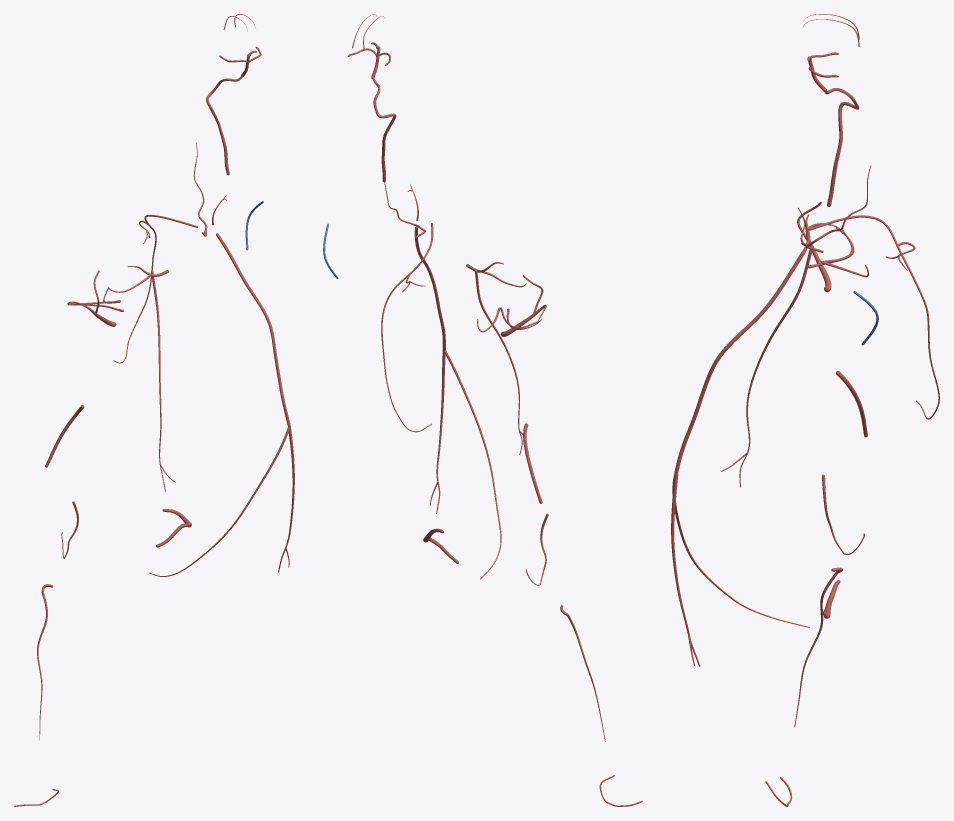
File: thorax-2.glb
3 renders of one model, left to right at view 1: azimuth 30°, elevation 25°; view 2: azimuth 150°, elevation 25°; view 3: azimuth 270°, elevation 25°, orthographic. The views are drawn at different scales.
Visible parts, largest first — view 1: FJ1937, FJ1938, FJ2284; view 2: FJ2284, FJ1969; view 3: FJ1937, FJ2284, FJ1938, FJ1936, FJ1725, FJ1969.
Part boxes in pixels (x1,y1,x2,y2): FJ1937: (216,233,290,427); FJ1938: (151,270,175,491); FJ2284: (113,215,197,363); FJ2284: (381,223,433,432); FJ1969: (444,351,501,579); FJ1937: (674,251,804,474); FJ2284: (808,215,939,419); FJ1938: (721,245,813,487); FJ1936: (671,473,700,666); FJ1725: (824,88,859,206); FJ1969: (672,475,809,627).
Size of the model in its own units: 0.3155 by 0.7835 by 0.2065.
